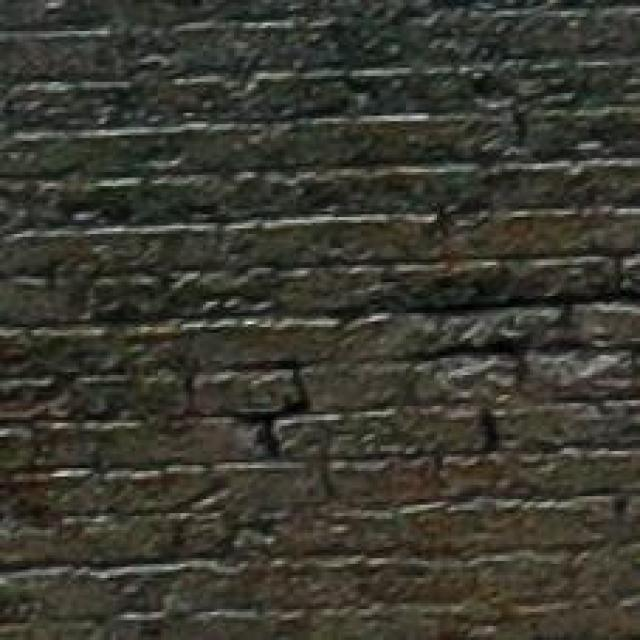Crack: (0, 156, 640, 596)
